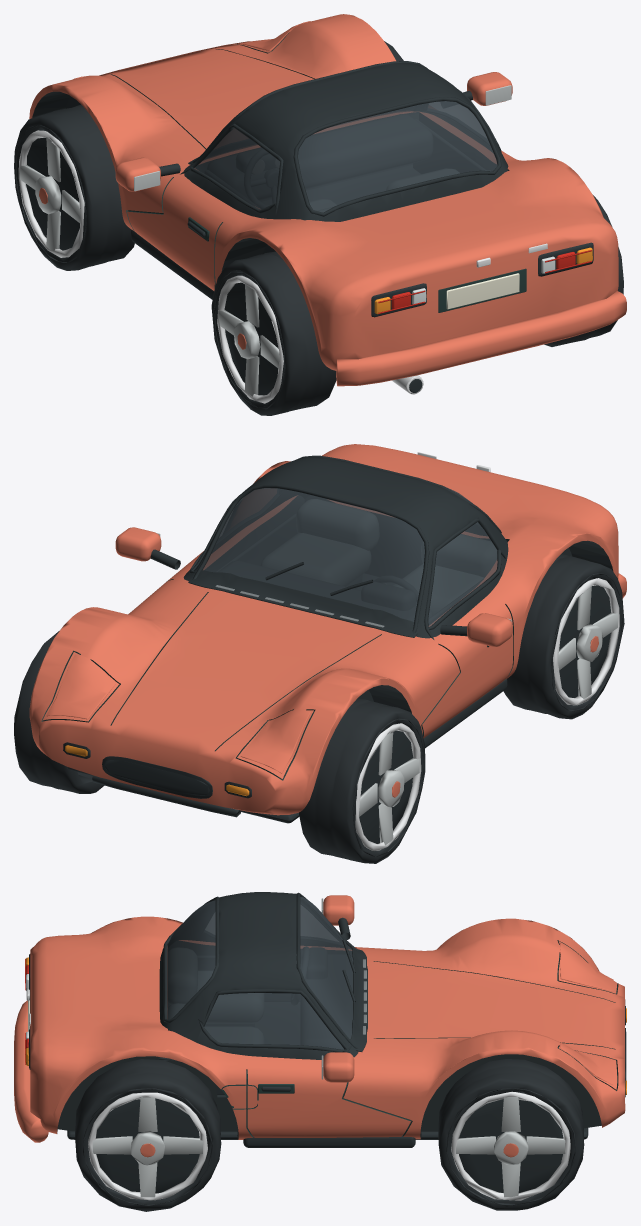
The model's file is kogarashi_lod2.fbx.
3 renders of one model, top to bottom at view 1: azimuth 30°, elevation 25°; view 2: azimuth 150°, elevation 25°; view 3: azimuth 270°, elevation 25°, orthographic. The views are drawn at different scales.
Visible parts, largest first — view 1: Body, Wheel_FL_Mesh, Wheel_RL_Mesh, Wheel_RR_Mesh; view 2: Body, Wheel_FL_Mesh, Wheel_RL_Mesh, Wheel_FR_Mesh; view 3: Body, Wheel_RR_Mesh, Wheel_FR_Mesh.
Boxes of the visible parts, x1,y1,x2,y2 form: Body: (29, 14, 626, 394); Wheel_FL_Mesh: (14, 104, 134, 270); Wheel_RL_Mesh: (211, 251, 336, 415); Wheel_RR_Mesh: (544, 195, 623, 346); Body: (29, 444, 626, 823); Wheel_FL_Mesh: (299, 698, 425, 863); Wheel_RL_Mesh: (503, 554, 624, 719); Wheel_FR_Mesh: (14, 631, 104, 793); Body: (14, 892, 626, 1147); Wheel_RR_Mesh: (75, 1059, 221, 1211); Wheel_FR_Mesh: (438, 1059, 584, 1210).
Size of the model in its own units: 222 by 131 by 334.
